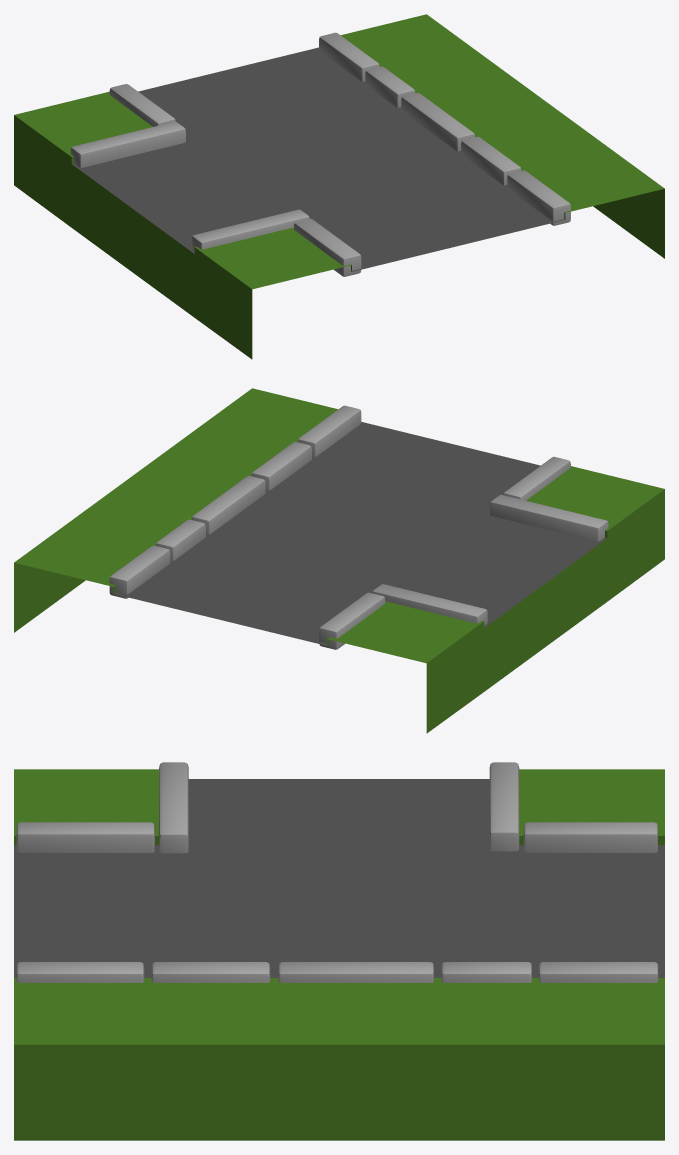
File: SM_tile_road_01.fbx
3 views of the same model, one above another, from view 1: azimuth 30°, elevation 25°; view 2: azimuth 150°, elevation 25°; view 3: azimuth 270°, elevation 25° (orthographic). The views are drawn at different scales.
Visible parts, largest first — view 1: Box174; view 2: Box174; view 3: Box174.
Boxes of the visible parts, box(x1,y1,x2,y2) form: Box174: box(14, 14, 664, 359); Box174: box(14, 388, 664, 733); Box174: box(14, 762, 664, 1140).
Bounding box in the file's own units: 394 × 71.2 × 394.
